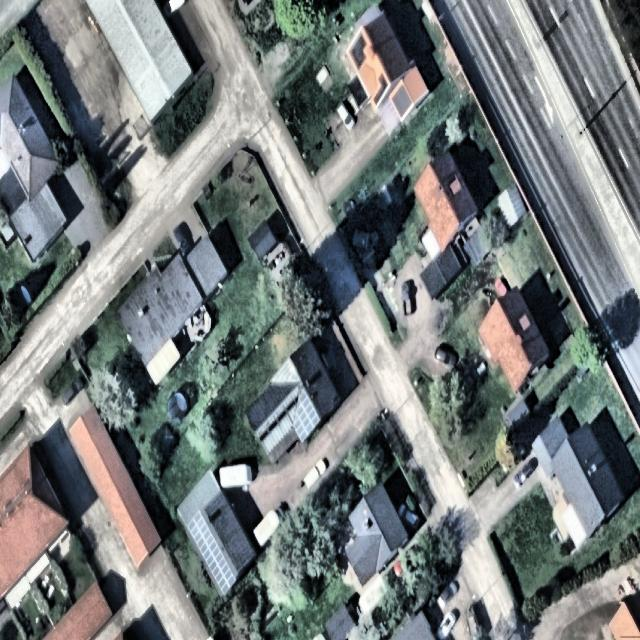roof_pv: (185, 510, 238, 598), (294, 390, 320, 442), (349, 23, 371, 71), (371, 67, 391, 110)
